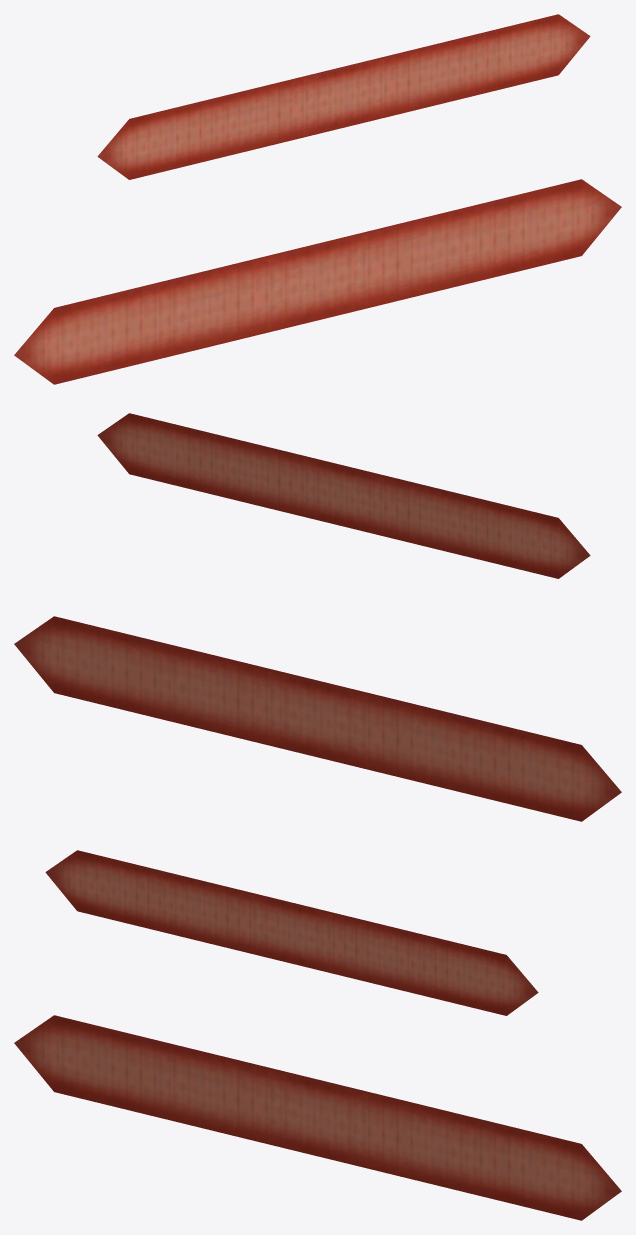
Rendered from vt49_engine_s01_on_l2.fbx.
3 views of the same model, one above another, from view 1: azimuth 30°, elevation 25°; view 2: azimuth 150°, elevation 25°; view 3: azimuth 330°, elevation 25° (orthographic).
Visible parts, largest first — view 1: mesh_node; view 2: mesh_node; view 3: mesh_node.
Part boxes in pixels (x1,y1,x2,y2): mesh_node: (14,14,621,384); mesh_node: (14,413,621,821); mesh_node: (14,850,621,1220).
Size of the model in its own units: 9.75 by 4.18 by 0.7219.
1 material, 1 textured.
